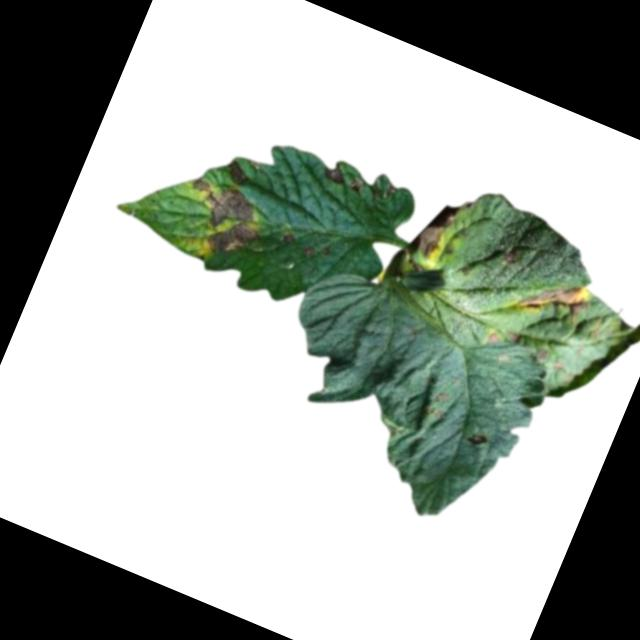Early_blight: (167, 173, 270, 268), (516, 263, 594, 327), (406, 195, 460, 264), (316, 160, 348, 187), (464, 426, 489, 450), (482, 327, 501, 347), (280, 227, 297, 246), (303, 239, 317, 256)
